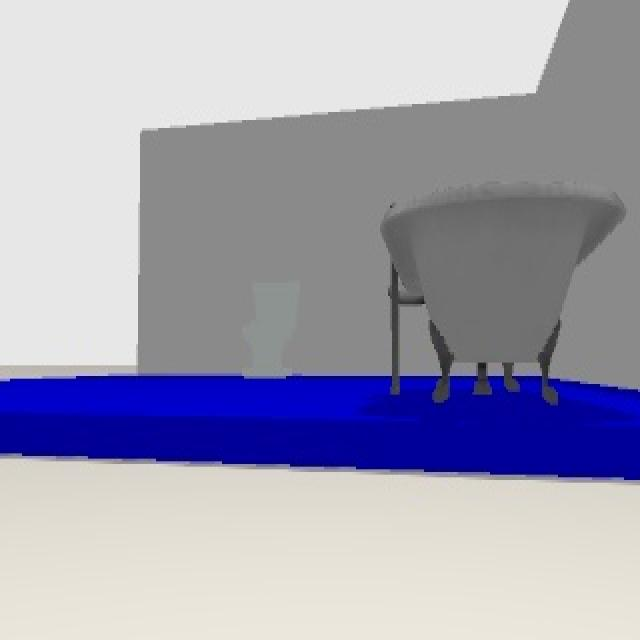bathtub: (380, 181, 628, 405)
